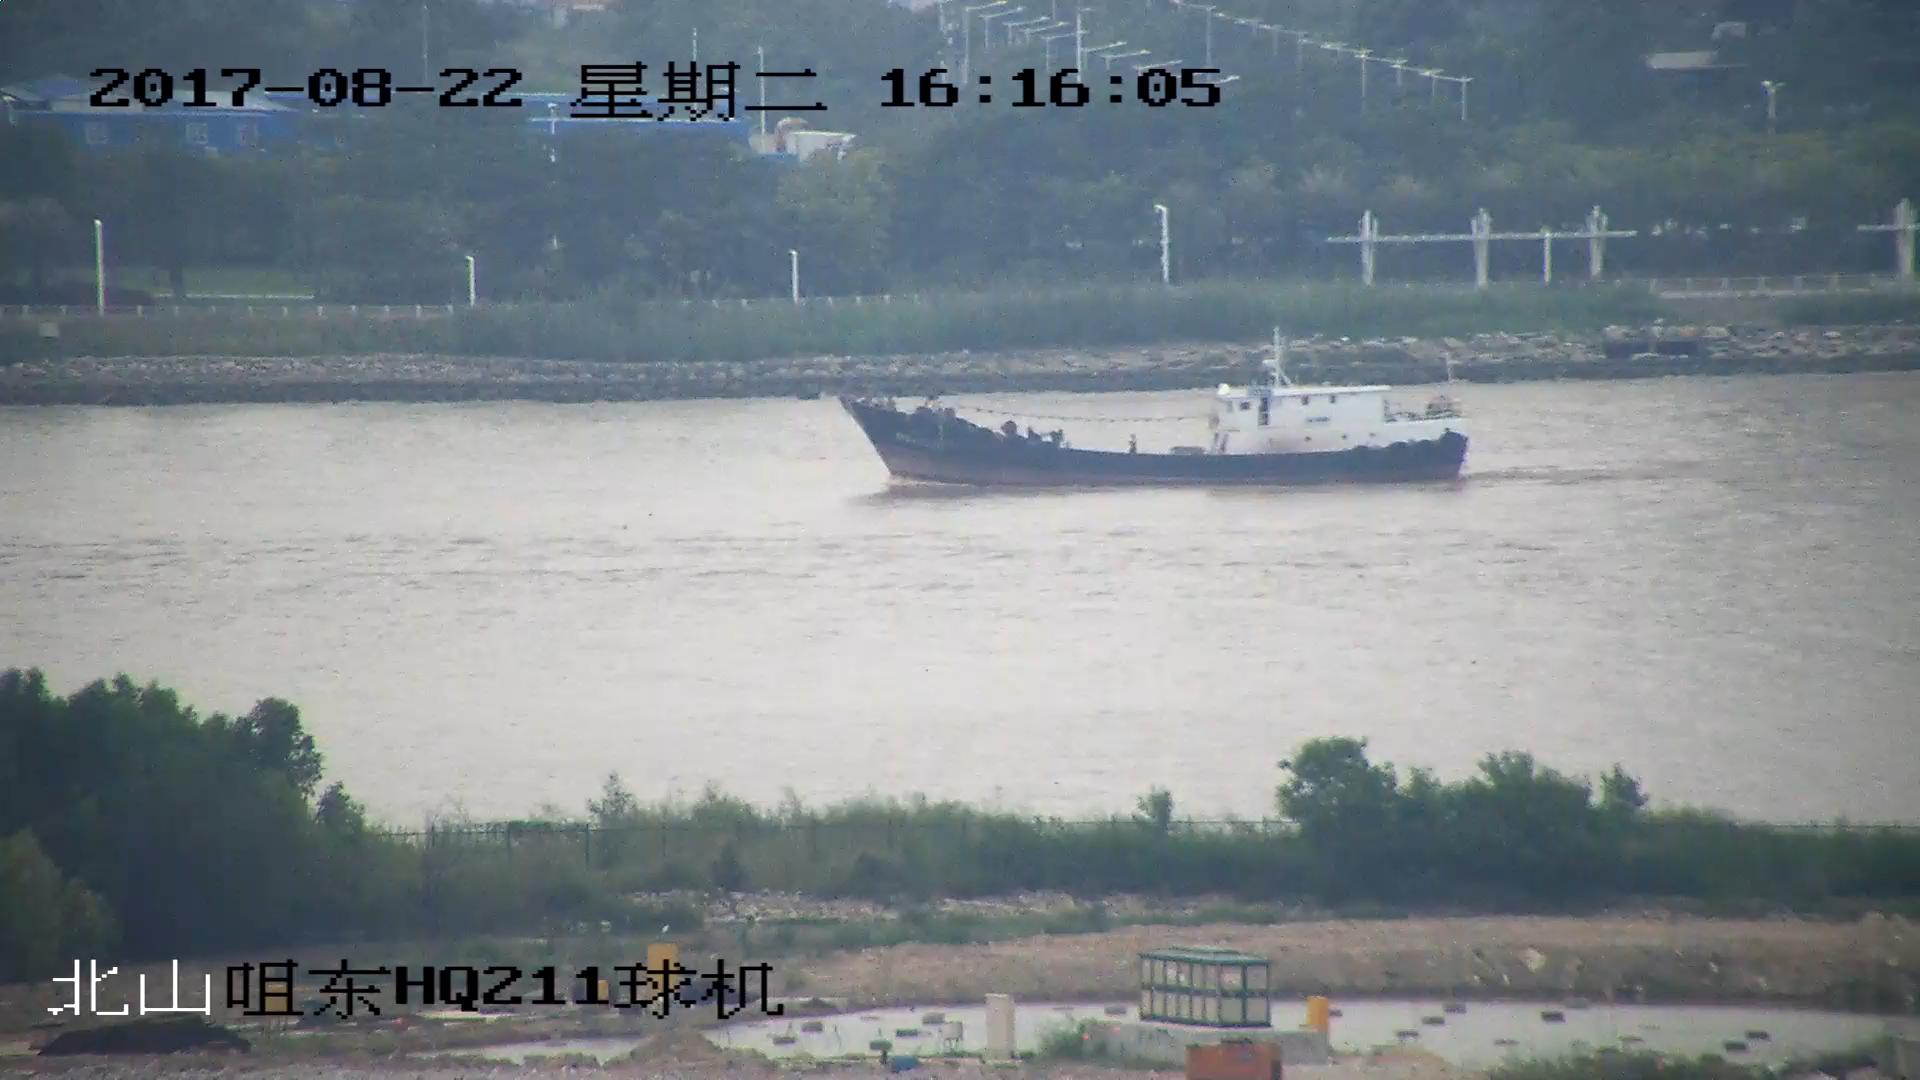fishing boat: (849, 334, 1473, 493)
